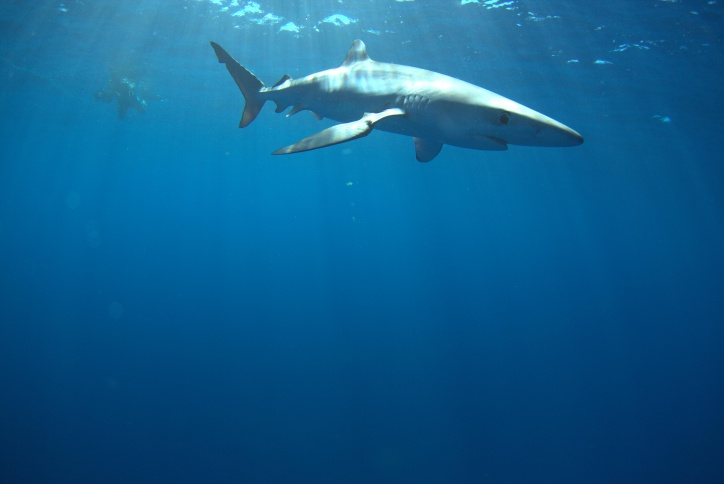Azul: (200, 8, 609, 178)
